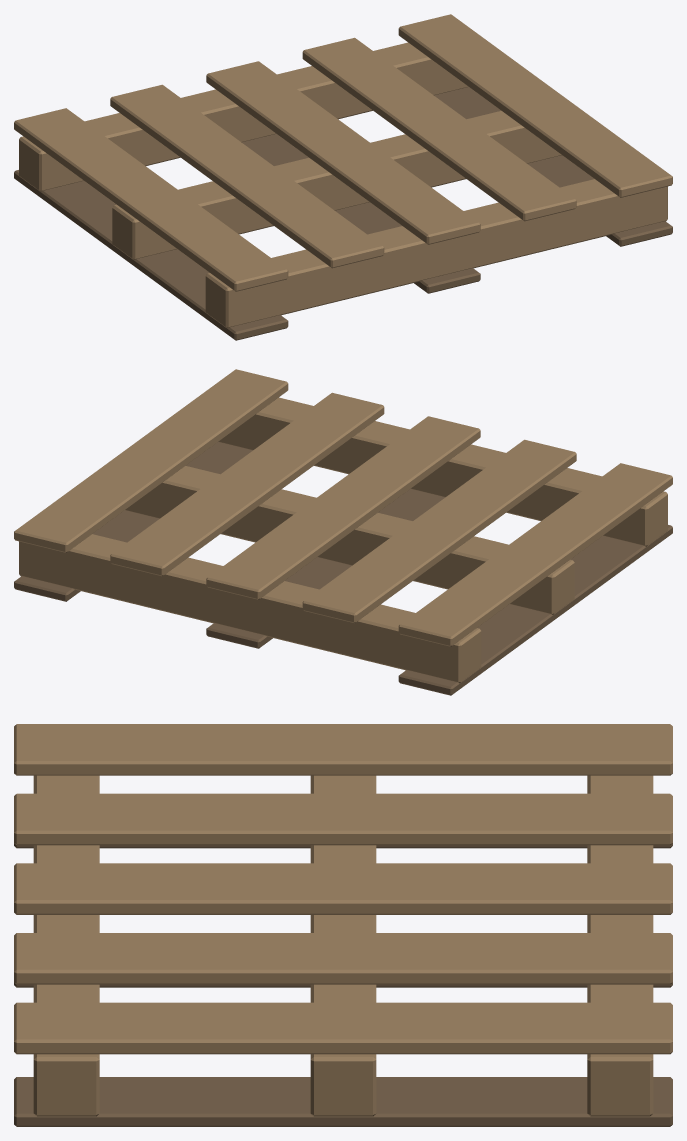
Rendered from v_pallet.glb.
3 renders of one model, top to bottom at view 1: azimuth 30°, elevation 25°; view 2: azimuth 150°, elevation 25°; view 3: azimuth 270°, elevation 25°, orthographic. The views are drawn at different scales.
Visible parts, largest first — view 1: Pallet; view 2: Pallet; view 3: Pallet.
Boxes of the visible parts, x1=… form: Pallet: x1=14, y1=14, x2=672, y2=340; Pallet: x1=14, y1=369, x2=672, y2=695; Pallet: x1=14, y1=724, x2=672, y2=1126.
Bounding box in the file's own units: 1.15 × 0.1465 × 1.
